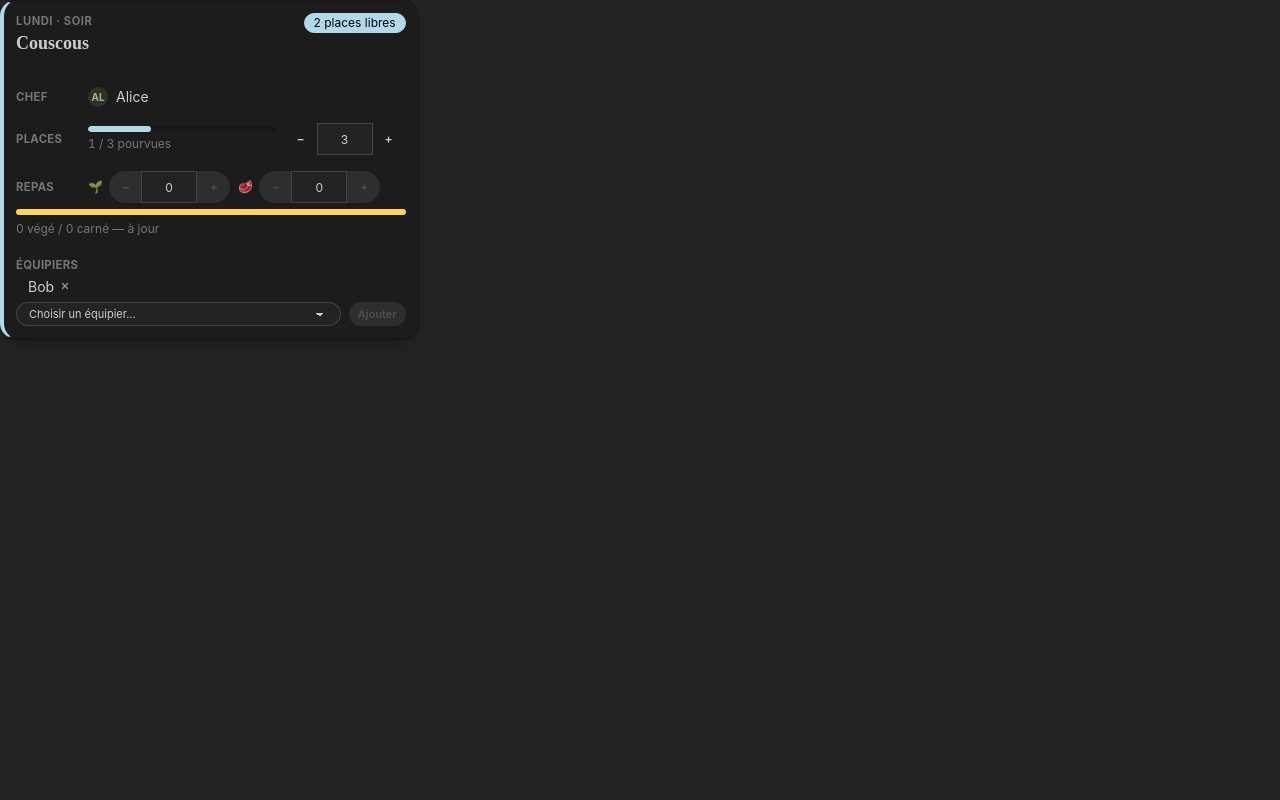
MealFichesList › opens a read-only details modal on row click, then Modifier switches to edit and Valider PATCHes once and closes
The width and height of the screenshot is (1280, 800).
Click the text "Couscous" at {"x": 54, "y": 43}, box [16,32,92,54]
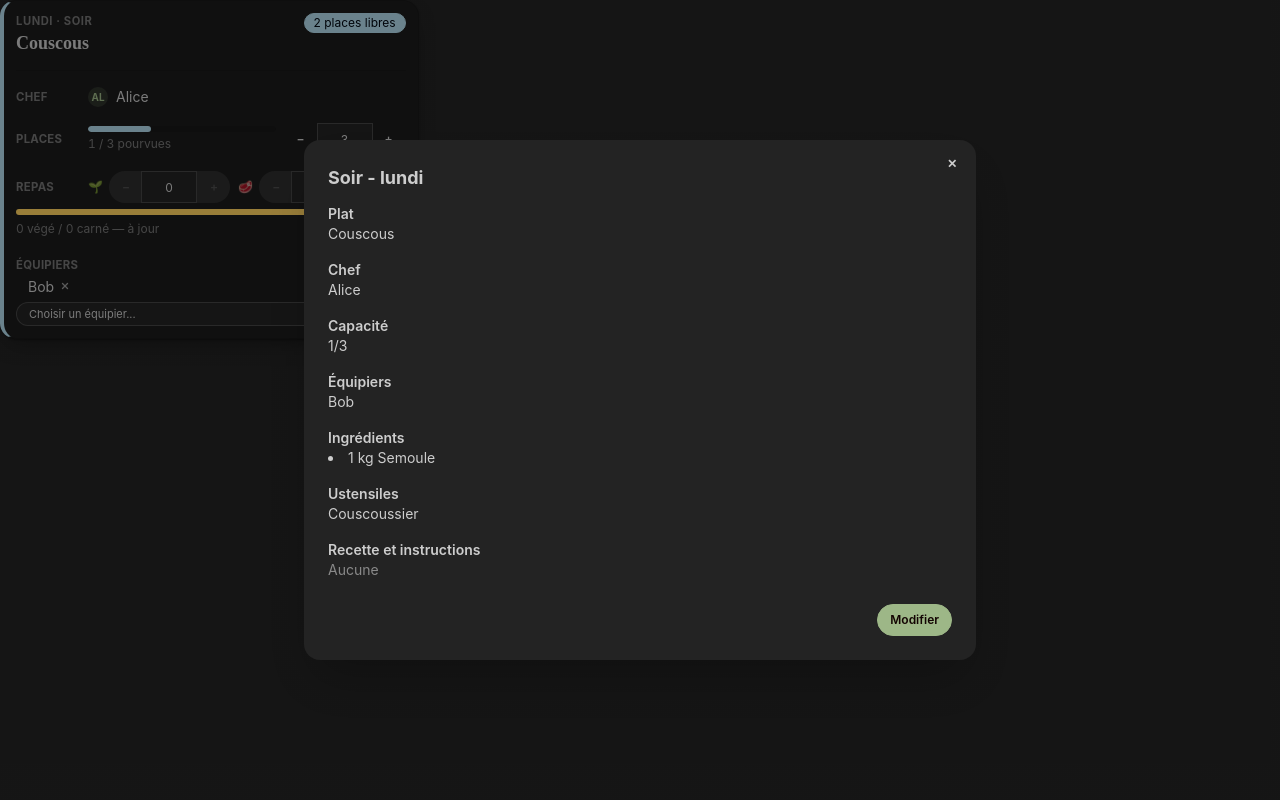
Expected: the field labelled "Nom du plat" is not shown
Now the button "Modifier" is shown
Click the button "Modifier" at {"x": 915, "y": 620}, box [877,604,952,636]
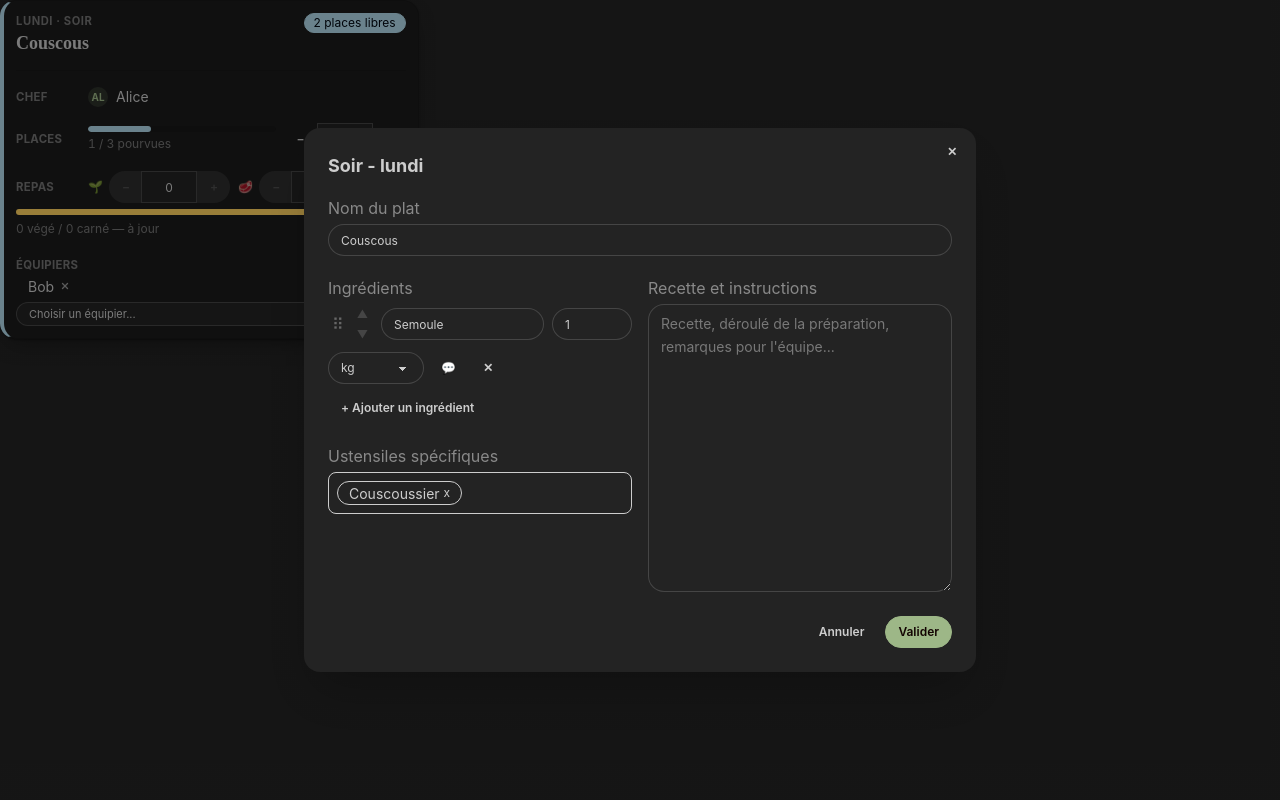
Replace the text in the field labelled "Nom du plat" with "Couscous royal" at {"x": 640, "y": 240}, box [328,224,952,256]
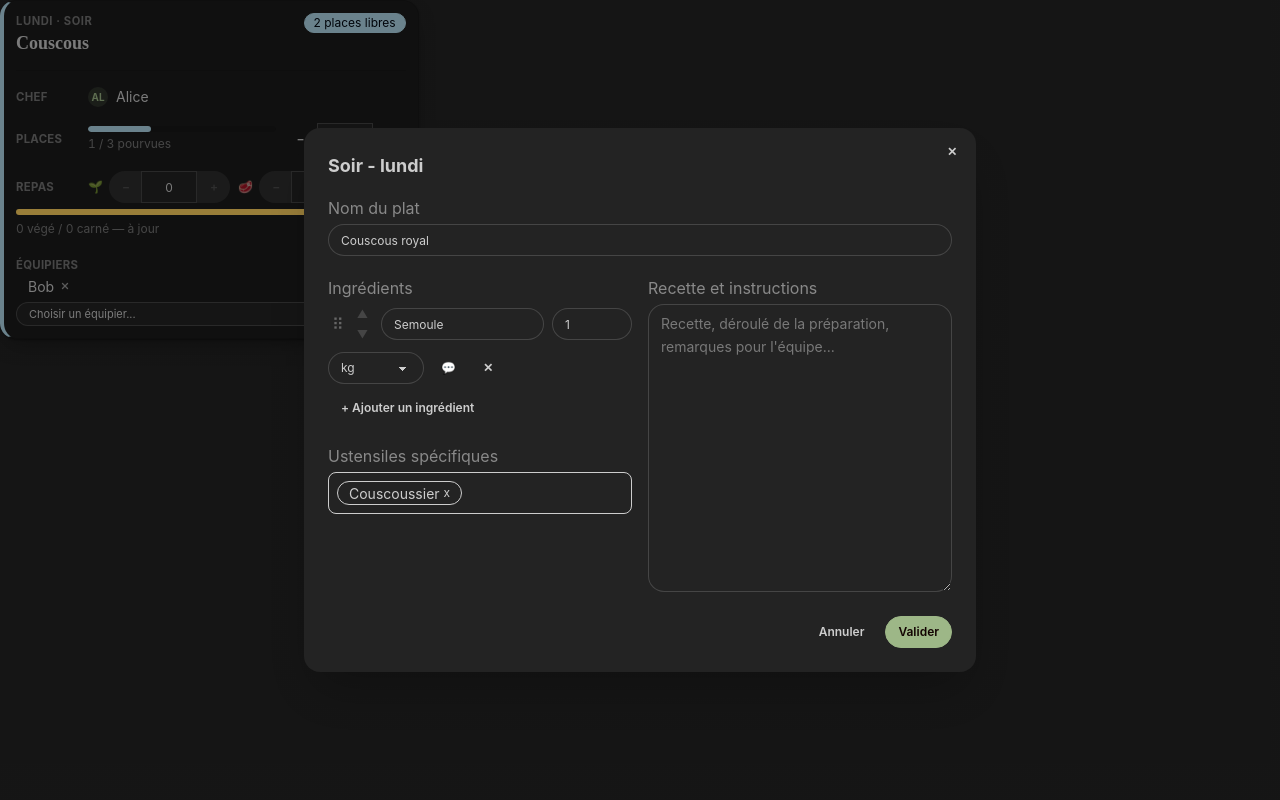
Click the button "Valider" at {"x": 919, "y": 632}, box [885,616,952,648]
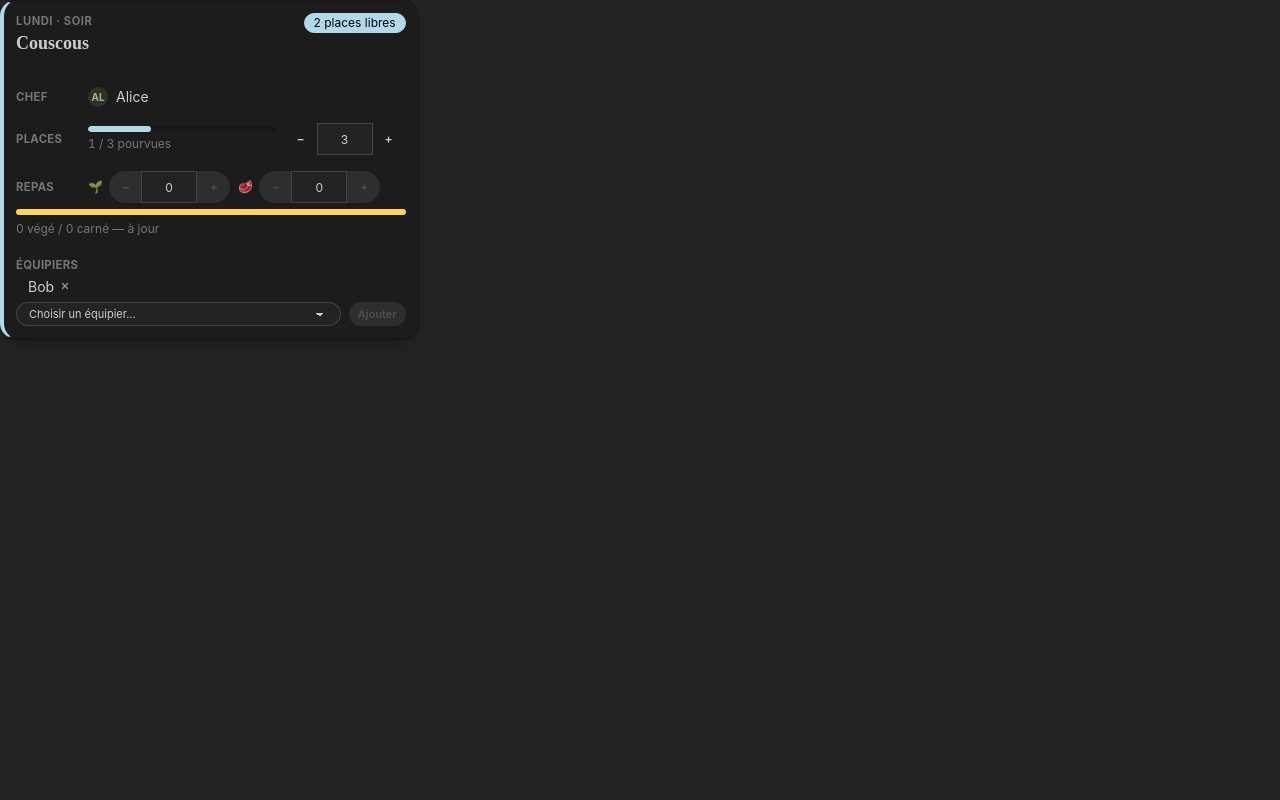
Now the text labelled "Nom du plat" is gone
